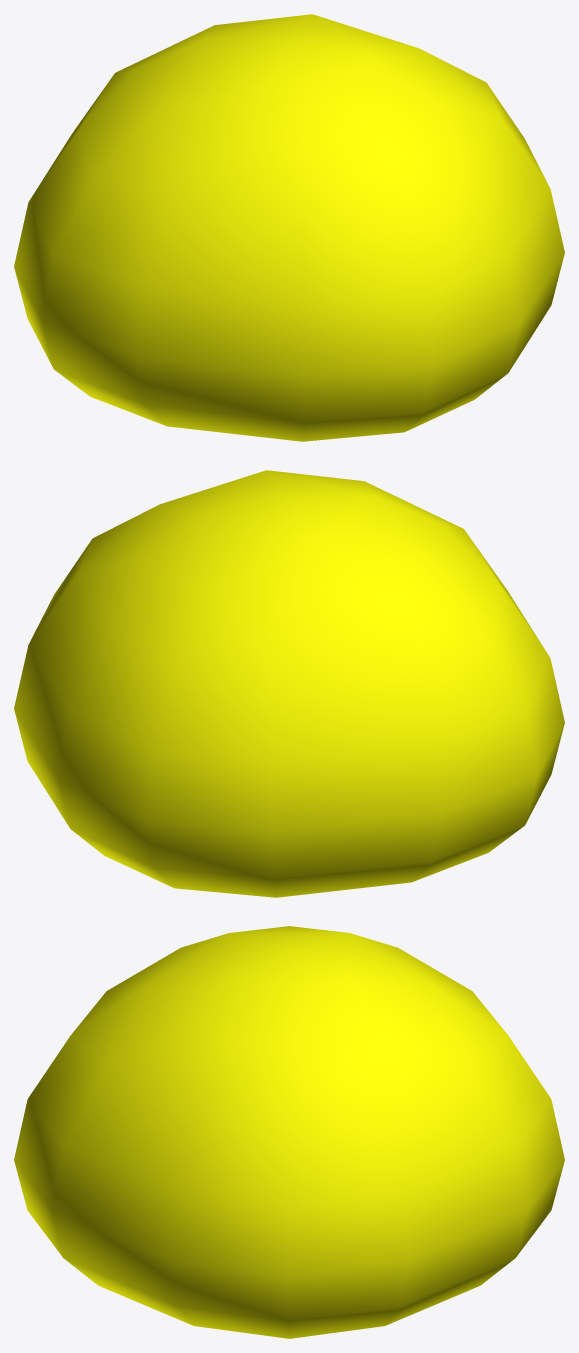
Rendered from kaykit-bush-1-d-color-1.glb.
3 renders of one model, top to bottom at view 1: azimuth 30°, elevation 25°; view 2: azimuth 150°, elevation 25°; view 3: azimuth 270°, elevation 25°, orthographic. The views are drawn at different scales.
Visible parts, largest first — view 1: Bush_1_D_Color1; view 2: Bush_1_D_Color1; view 3: Bush_1_D_Color1.
Part boxes in pixels (bbox=[...]): Bush_1_D_Color1: bbox=[14, 14, 564, 441]; Bush_1_D_Color1: bbox=[14, 470, 564, 897]; Bush_1_D_Color1: bbox=[14, 926, 564, 1338].
Bounding box in the file's own units: 1.57 × 0.9938 × 1.57.
